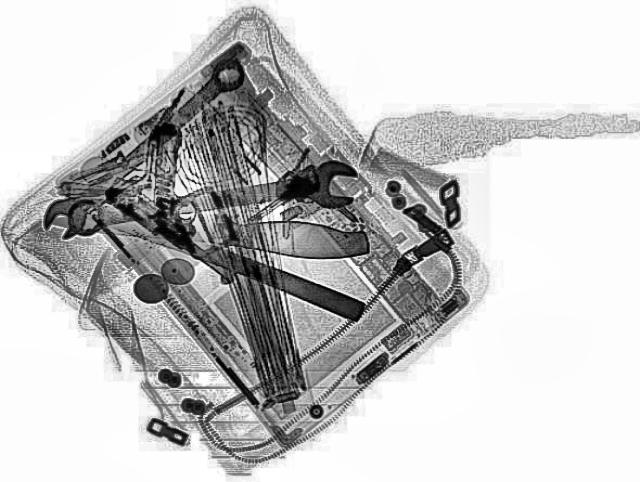Gun: (80, 118, 310, 286)
Knife: (72, 192, 370, 320), (44, 201, 372, 261)
Wrench: (25, 50, 258, 244), (62, 157, 364, 243)
